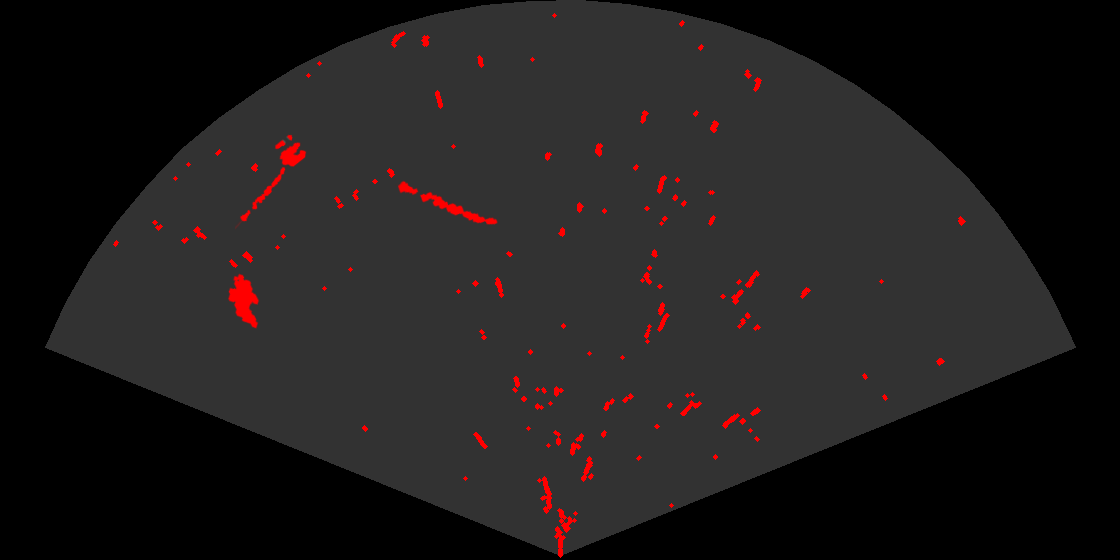AUV: (226, 272, 261, 330)
ball: (273, 133, 308, 169)
chain: (395, 179, 499, 226), (235, 165, 287, 231)
